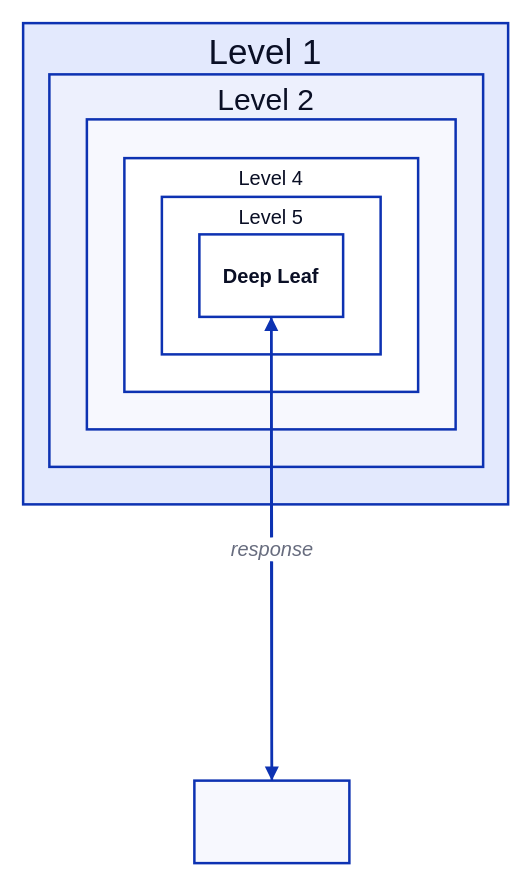
This 530x885 diagram has some shape labels left out. The shapes that lost their labels are listed below. From the top down, each one's box as (x1, y1, x2, y2) in pixels, then its label:
(85, 118, 456, 430): Level 3
(192, 779, 350, 864): Entry Point
